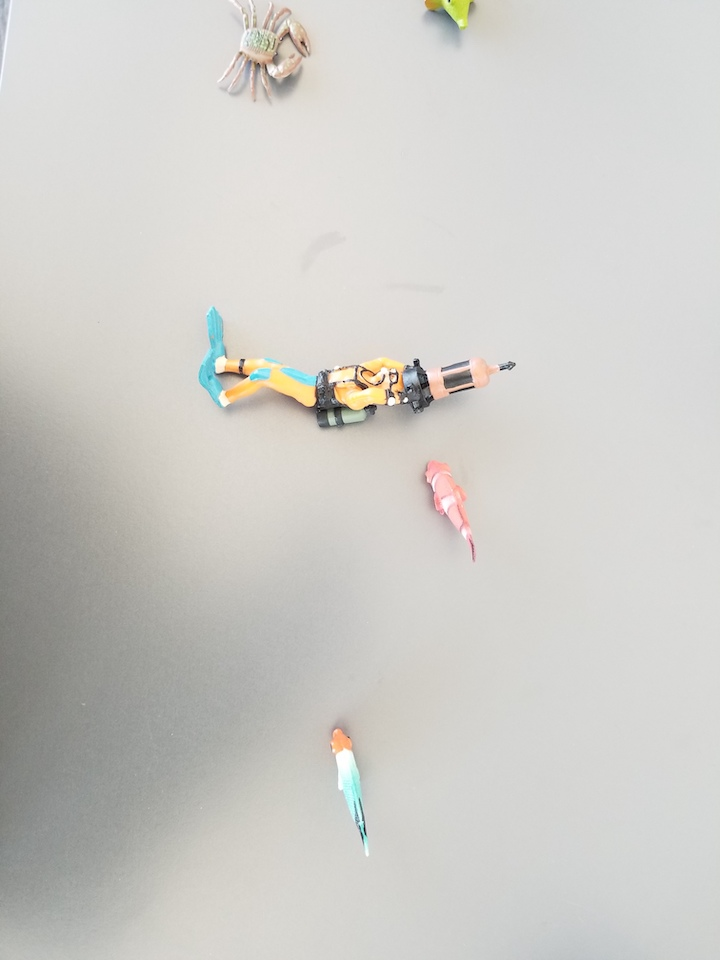crab: (216, 1, 315, 106)
diver: (198, 307, 517, 434)
fish: (327, 727, 381, 872), (415, 458, 483, 565), (426, 1, 479, 34)
